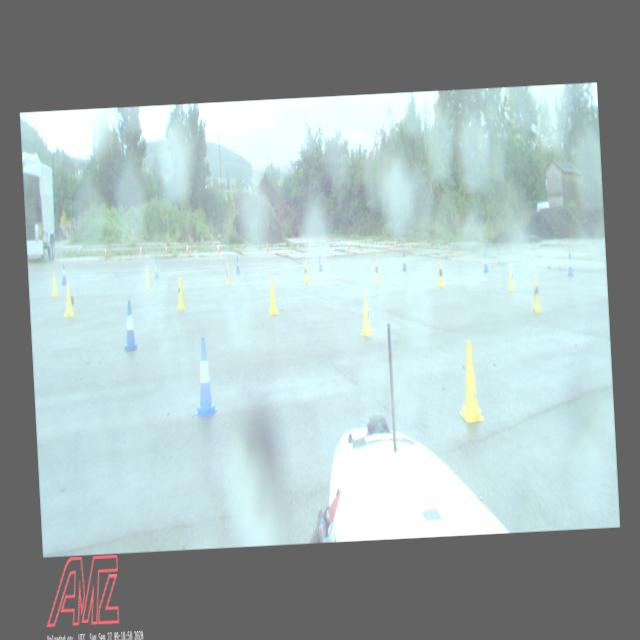blue_cone: (191, 337, 219, 418), (121, 300, 138, 352), (566, 254, 574, 276), (482, 252, 489, 272), (61, 264, 67, 285), (318, 254, 323, 272), (154, 260, 159, 278), (402, 252, 406, 271), (236, 256, 240, 274)
orange_cone: (138, 244, 142, 256), (308, 240, 312, 251), (186, 242, 189, 254), (217, 242, 220, 253), (104, 246, 107, 256), (266, 242, 269, 252), (165, 244, 168, 254), (348, 238, 350, 249), (394, 238, 396, 248)
yellow_cone: (456, 340, 484, 422), (358, 290, 374, 337), (530, 274, 544, 312), (266, 279, 278, 315), (62, 282, 74, 317), (176, 278, 186, 310), (437, 260, 445, 288), (50, 272, 59, 296), (507, 264, 515, 290), (144, 266, 151, 290), (374, 260, 381, 283), (225, 262, 232, 285), (304, 260, 310, 282)
